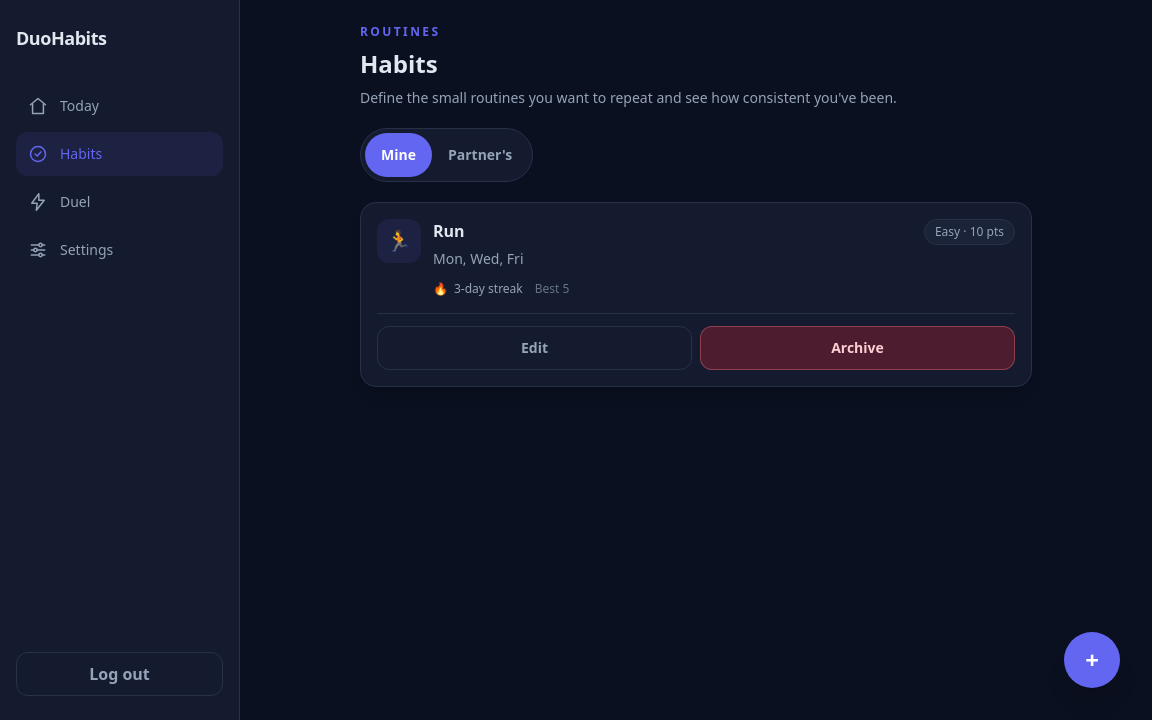
Test: HabitsPage › renders the partner's habits with no edit, archive or create controls
Expected: the heading "Habits" is shown, [360,47,438,80]
Expected: the heading "Run" is shown, [433,219,465,243]
Click the button "Partner's": (480, 155) [432,133,528,177]
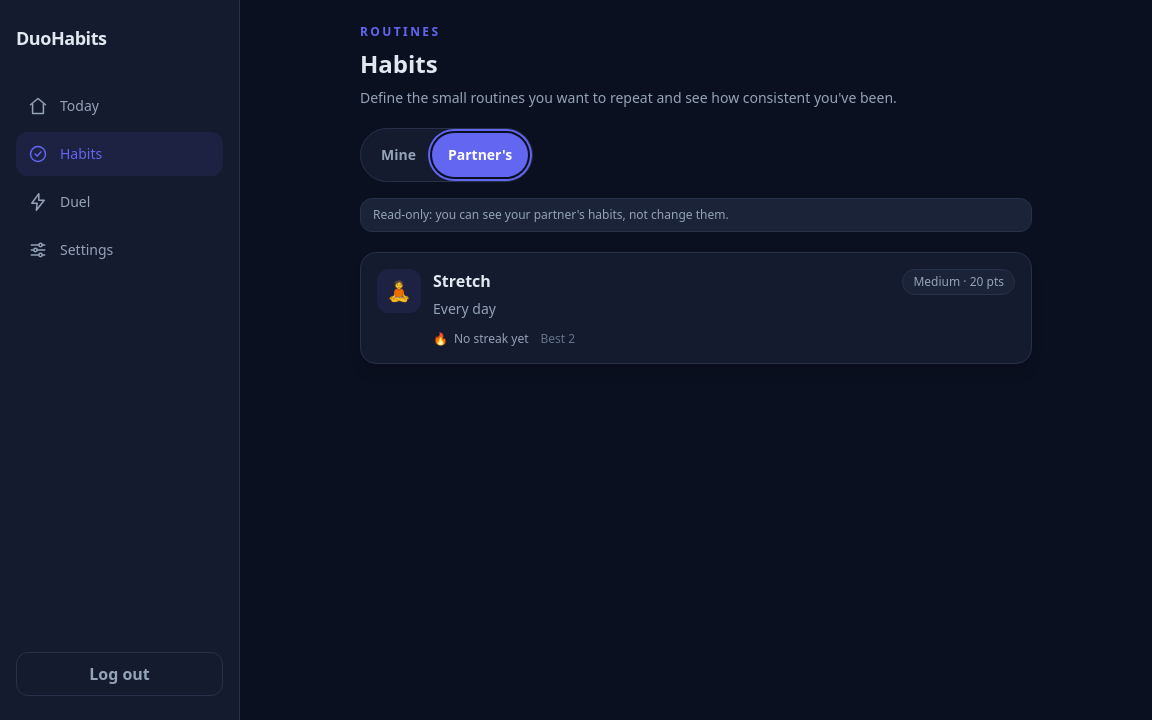
Expected: the heading "Stretch" is shown, [433,269,491,293]
Expected: the text "Every day" is shown, [433,299,496,318]
Expected: the text "Read-only" is shown, [373,206,729,223]
